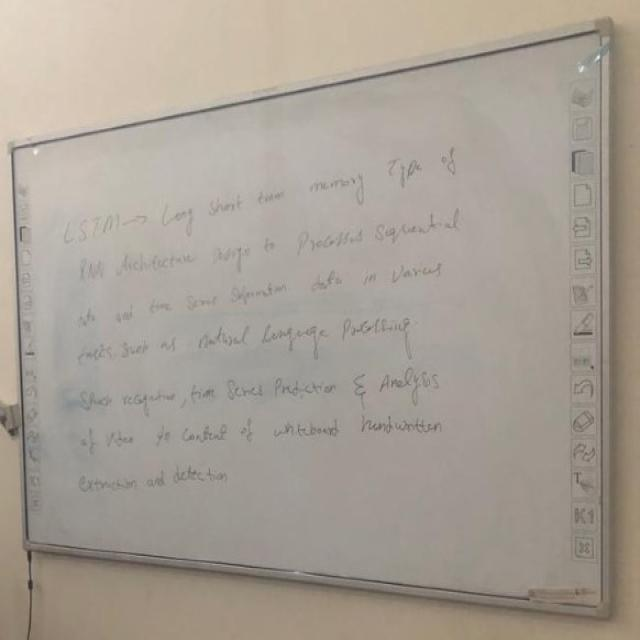White-board: (15, 24, 605, 612)
